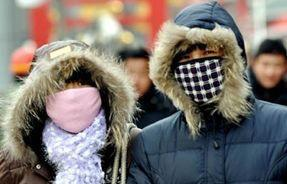NONE: (257, 58, 286, 86), (125, 68, 150, 96)
OK: (169, 43, 227, 101), (49, 76, 102, 133)
